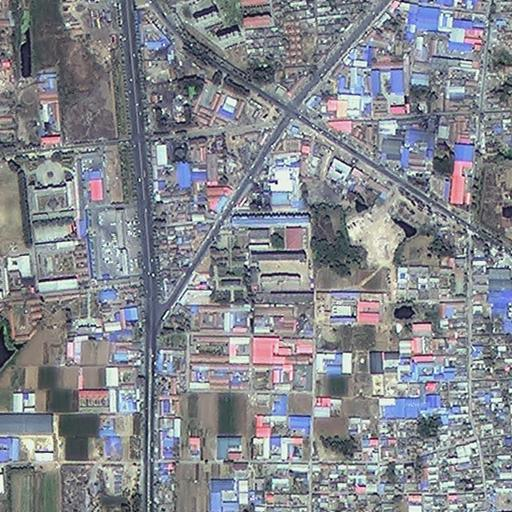school: (244, 219, 316, 307)
